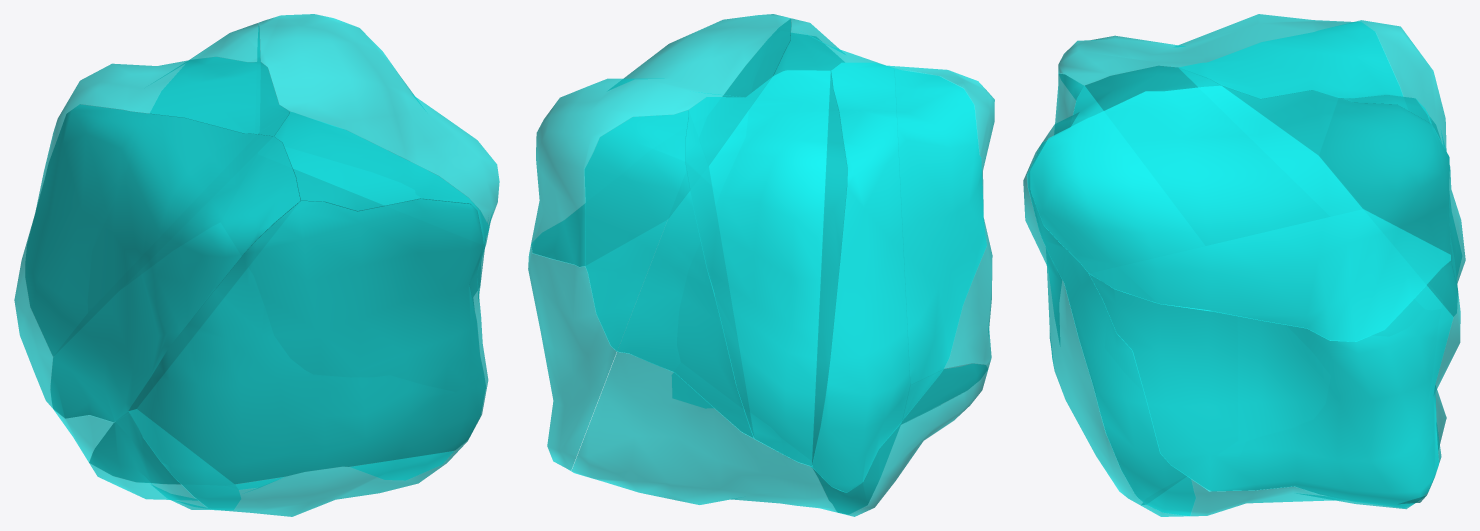
File: icedeneme.fbx
The picture shows the model from 3 angles, left to right: view 1: azimuth 30°, elevation 25°; view 2: azimuth 150°, elevation 25°; view 3: azimuth 270°, elevation 25°; orthographic projection. The views are drawn at different scales.
Parts seen in each view (by area): view 1: Cube1_cell.007, Cube1_cell.006, Cube1_cell.005, Cube1_cell.001, Cube1_cell.009, Cube1_cell.002, Cube1_cell.008, Cube1_cell.003, Cube1_cell.004; view 2: Cube1_cell.007, Cube1_cell.005, Cube1_cell.001, Cube1_cell.009, Cube1_cell.008, Cube1_cell.006, Cube1_cell.003, Cube1_cell.002, Cube1_cell.004; view 3: Cube1_cell.007, Cube1_cell.009, Cube1_cell.003, Cube1_cell.005, Cube1_cell.006, Cube1_cell.001, Cube1_cell.008, Cube1_cell.004.
Boxes of the visible parts, box(x1,y1,x2,y2) form: Cube1_cell.007: box(51, 111, 489, 483); Cube1_cell.006: box(128, 199, 485, 516); Cube1_cell.005: box(14, 104, 300, 422); Cube1_cell.001: box(26, 56, 289, 355); Cube1_cell.009: box(257, 14, 499, 241); Cube1_cell.002: box(89, 410, 240, 510); Cube1_cell.008: box(150, 23, 260, 133); Cube1_cell.003: box(293, 169, 484, 302); Cube1_cell.004: box(352, 451, 453, 479); Cube1_cell.007: box(571, 18, 909, 514); Cube1_cell.005: box(812, 62, 994, 492); Cube1_cell.001: box(685, 70, 847, 466); Cube1_cell.009: box(531, 14, 791, 266); Cube1_cell.008: box(584, 110, 753, 438); Cube1_cell.006: box(773, 33, 992, 423); Cube1_cell.003: box(528, 204, 666, 470); Cube1_cell.002: box(813, 363, 988, 516); Cube1_cell.004: box(672, 373, 712, 407); Cube1_cell.007: box(1027, 65, 1452, 516); Cube1_cell.009: box(1030, 85, 1450, 341); Cube1_cell.003: box(1089, 210, 1460, 508); Cube1_cell.005: box(1058, 14, 1402, 110); Cube1_cell.006: box(1023, 73, 1185, 505); Cube1_cell.001: box(1178, 20, 1465, 283); Cube1_cell.008: box(1320, 95, 1462, 315); Cube1_cell.004: box(1141, 476, 1194, 516).
Size of the model in its own units: 241 by 247 by 243.
